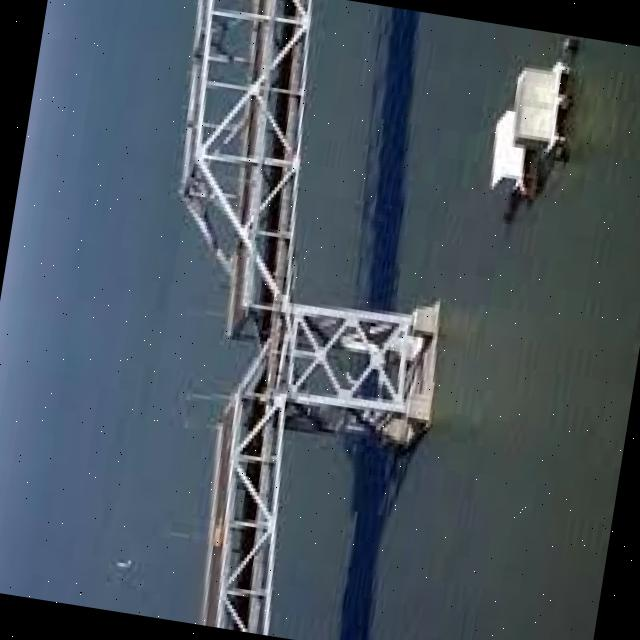bridge collapse: (141, 234, 362, 552)
